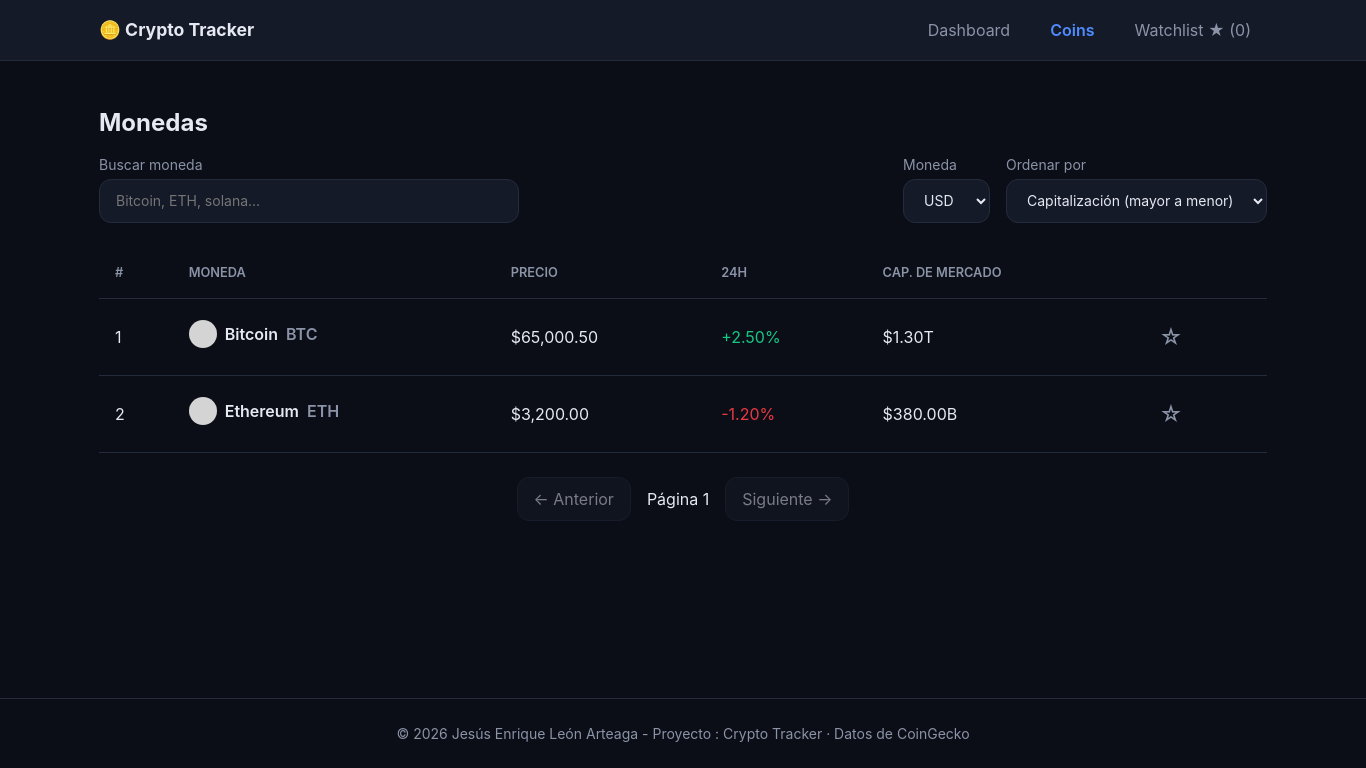
Test case: Flujos completos de la app › agrega una moneda desde la lista y la ve en la Watchlist
The image size is (1366, 768).
Expected: the text "Bitcoin" is shown, 225,322 -> 278,346
Step 1. Click the button named "agregar bitcoin" → click(1171, 337), box 1149,315 -> 1193,359
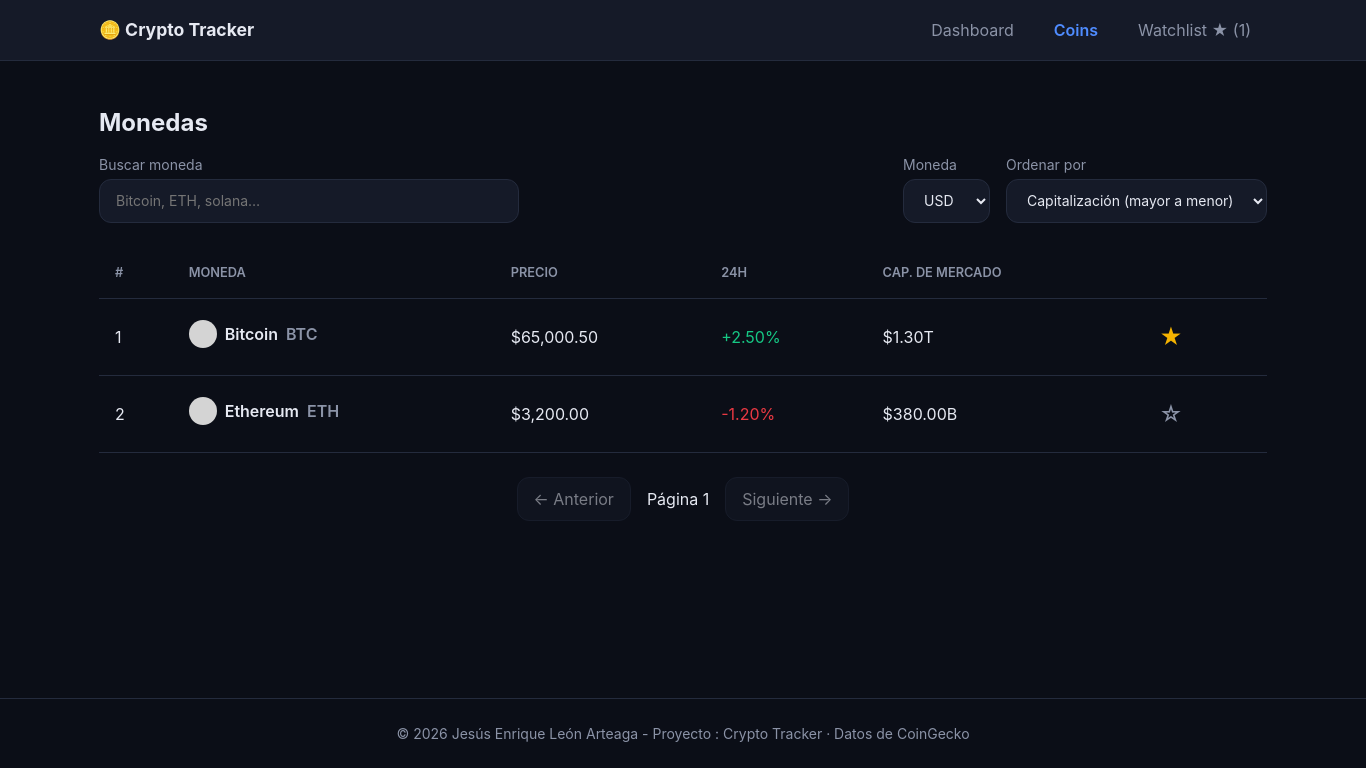
Result: the link "Watchlist ★ (1)" is shown
Step 2. Click the link "Watchlist ★ (1)" → click(1194, 30), box 1138,20 -> 1251,40
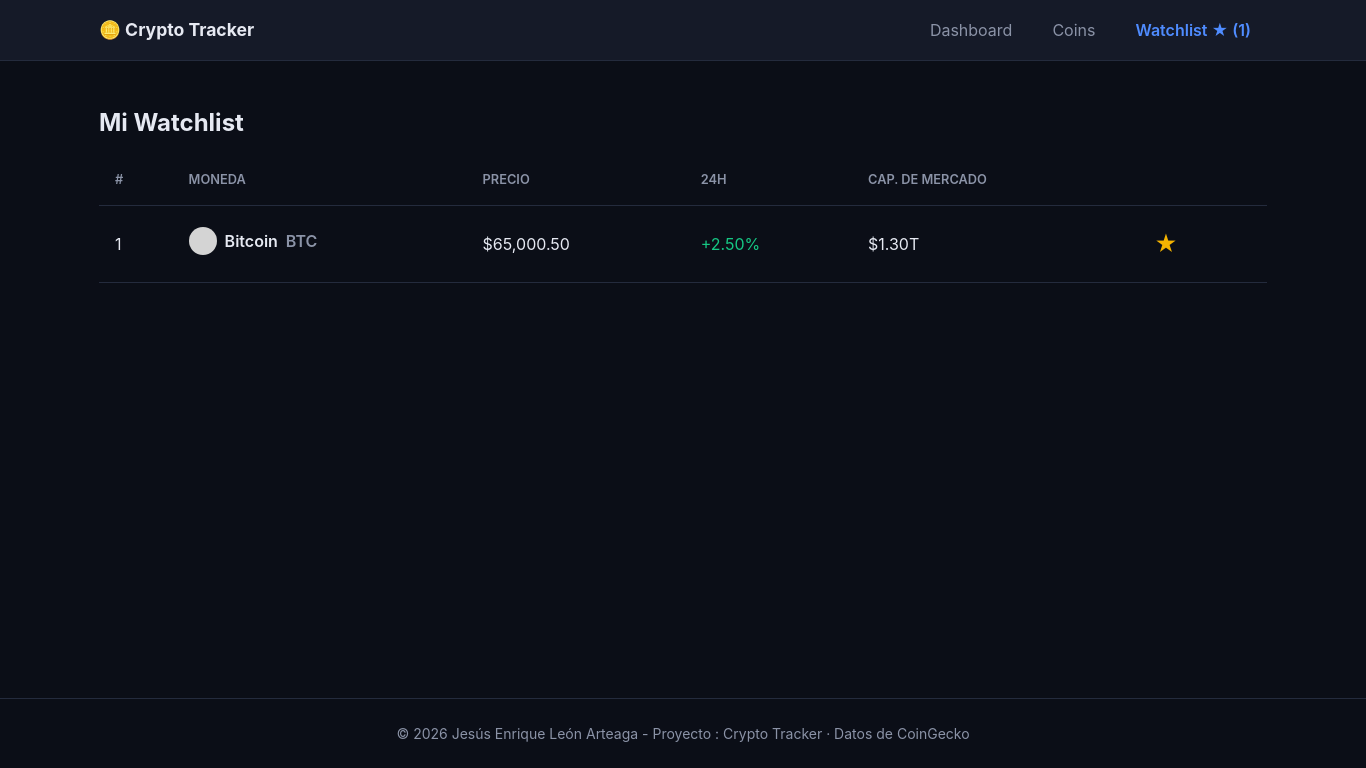
Expected: the text "Bitcoin" is shown, 225,229 -> 278,253
Result: the heading "Mi Watchlist" is shown at 99,108 -> 244,137
Result: the link "Ethereum" is gone
